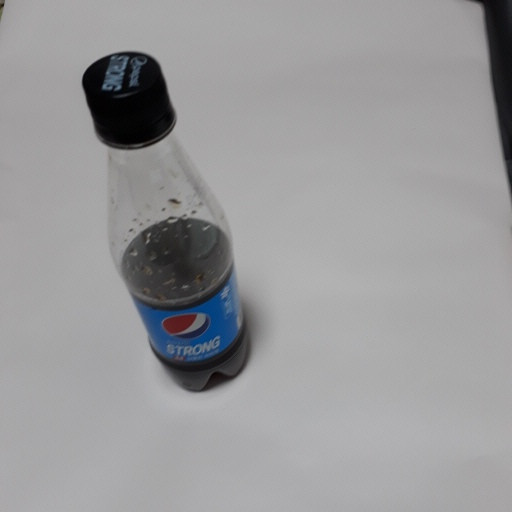Plastic_0: (78, 49, 256, 399)
